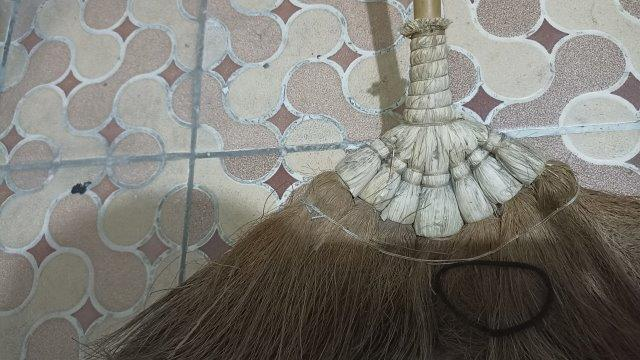karet: (435, 261, 553, 336)
